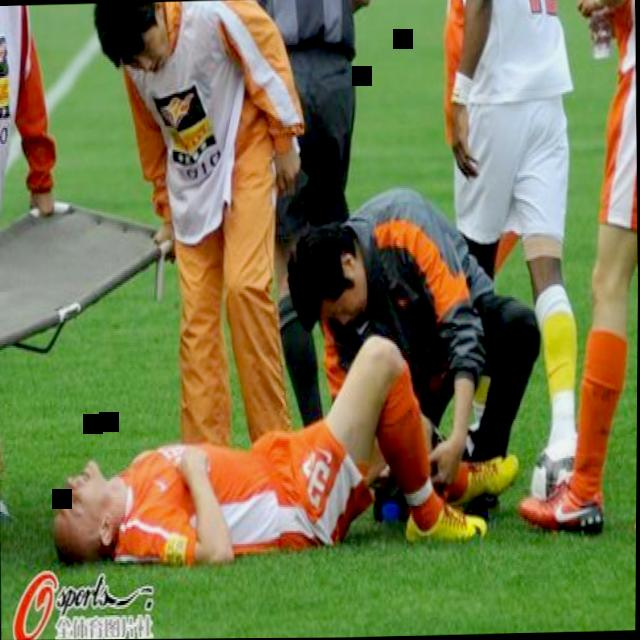Fall-Detected: (33, 329, 525, 568)
